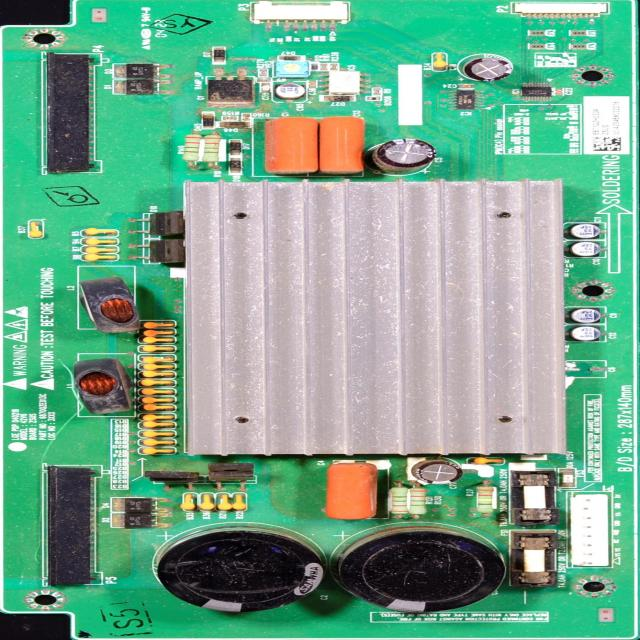Capacitor Jumper: (412, 462, 450, 476), (284, 84, 306, 101), (571, 330, 598, 340), (577, 244, 603, 254), (473, 59, 491, 72), (574, 310, 594, 319), (573, 226, 592, 235), (261, 82, 270, 92), (459, 84, 474, 88), (555, 88, 563, 95)
Connector: (45, 51, 97, 173), (46, 466, 98, 586), (568, 492, 611, 567), (512, 2, 610, 18)
IC: (318, 72, 371, 94), (449, 90, 485, 109), (523, 83, 552, 101)
Resistor Jumper: (390, 481, 408, 518), (410, 481, 426, 518), (479, 481, 495, 517), (183, 134, 203, 161), (204, 134, 221, 162), (258, 69, 268, 77), (329, 63, 338, 71), (320, 64, 329, 71), (373, 88, 381, 95), (223, 116, 237, 120), (243, 113, 250, 120)
Transistor: (218, 80, 248, 101)
